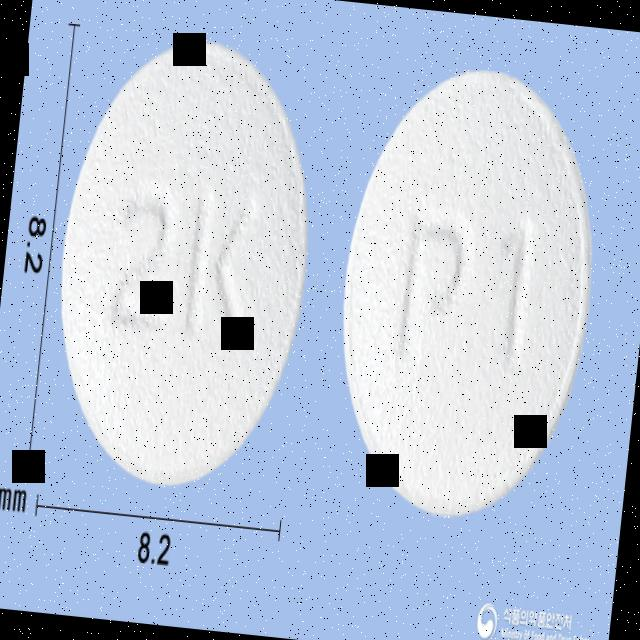Letroxin: (39, 25, 330, 502), (320, 62, 612, 530)
